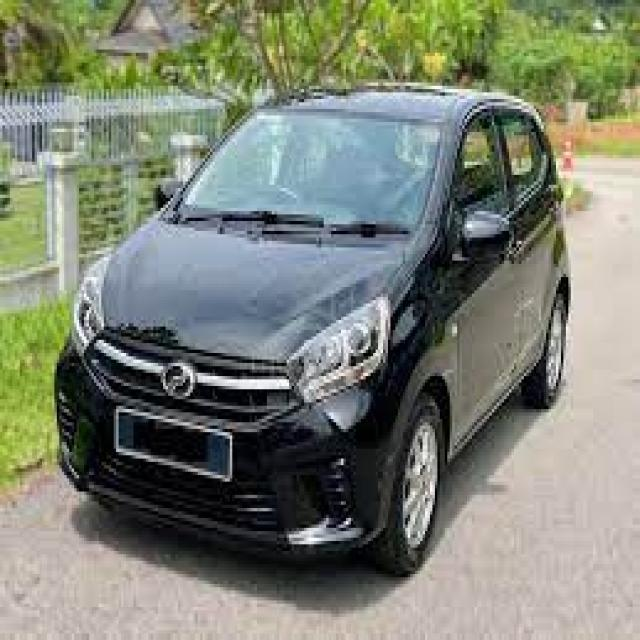PeroduaAxia: (52, 76, 573, 574)
